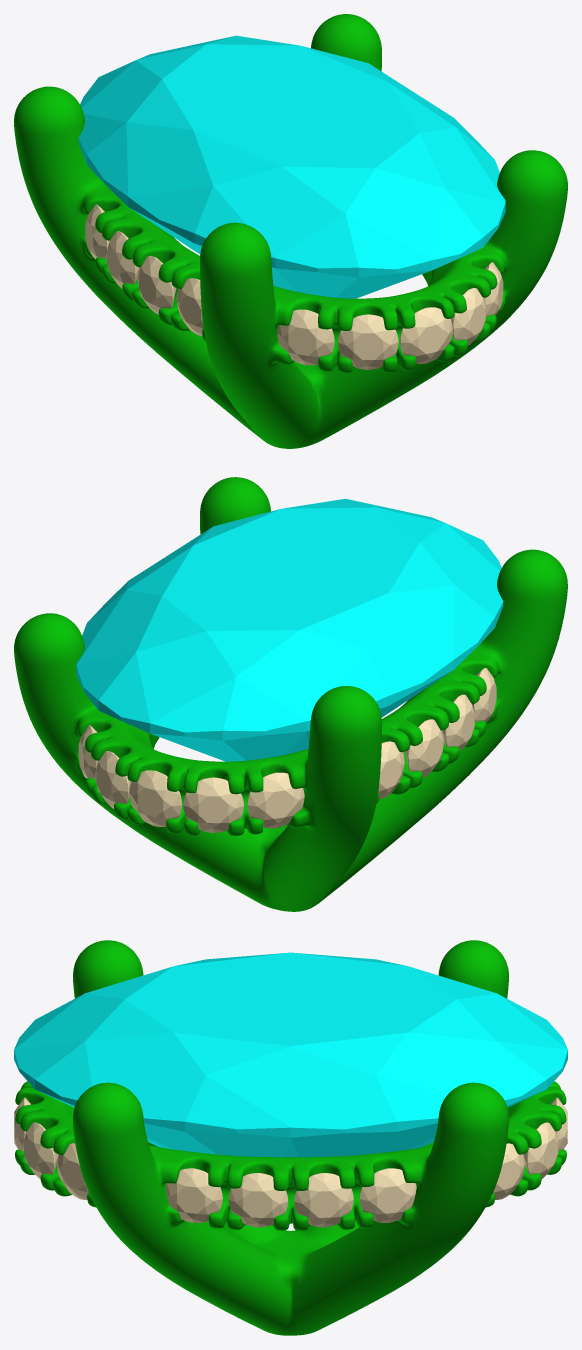
3 renders of one model, top to bottom at view 1: azimuth 30°, elevation 25°; view 2: azimuth 150°, elevation 25°; view 3: azimuth 270°, elevation 25°, orthographic.
Parts seen in each view (by area): view 1: Diamond_Oval, Metal01, Diamond_Round.006, Diamond_Round.005, Diamond_Round.007, Diamond_Round.012, Diamond_Round.008, Diamond_Round.013, Diamond_Round.011, Diamond_Round.010, Diamond_Round.009; view 2: Diamond_Oval, Metal01, Diamond_Round.003, Diamond_Round.004, Diamond_Round.002, Diamond_Round.011, Diamond_Round.001, Diamond_Round.010, Diamond_Round.012, Diamond_Round.013, Diamond_Round; view 3: Diamond_Oval, Metal01, Diamond_Round.015, Diamond_Round.016, Diamond_Round.014, Diamond_Round.017, Diamond_Round.001, Diamond_Round.008, Diamond_Round.009, Diamond_Round.
Boxes of the visible parts, box(x1,y1,x2,y2) form: Diamond_Oval: box(78, 35, 505, 298); Metal01: box(14, 14, 567, 448); Diamond_Round.006: box(338, 314, 398, 369); Diamond_Round.005: box(277, 309, 334, 365); Diamond_Round.007: box(399, 307, 452, 363); Diamond_Round.012: box(137, 256, 176, 314); Diamond_Round.008: box(450, 288, 486, 345); Diamond_Round.013: box(176, 278, 203, 335); Diamond_Round.011: box(106, 231, 139, 288); Diamond_Round.010: box(85, 204, 109, 259); Diamond_Round.009: box(484, 262, 503, 316); Diamond_Oval: box(76, 498, 503, 761); Metal01: box(14, 477, 567, 911); Diamond_Round.003: box(183, 777, 243, 832); Diamond_Round.004: box(247, 772, 304, 828); Diamond_Round.002: box(129, 770, 182, 826); Diamond_Round.011: box(405, 719, 444, 777); Diamond_Round.001: box(95, 751, 131, 808); Diamond_Round.010: box(378, 741, 404, 799); Diamond_Round.012: box(442, 694, 474, 750); Diamond_Round.013: box(472, 668, 496, 722); Diamond_Round: box(78, 725, 97, 780); Diamond_Oval: box(14, 952, 567, 1157); Metal01: box(15, 940, 566, 1335); Diamond_Round.015: box(228, 1173, 288, 1227); Diamond_Round.016: box(294, 1173, 353, 1227); Diamond_Round.014: box(165, 1168, 222, 1222); Diamond_Round.017: box(359, 1168, 416, 1222); Diamond_Round.001: box(523, 1122, 558, 1178); Diamond_Round.008: box(23, 1122, 58, 1179); Diamond_Round.009: box(57, 1143, 88, 1199); Diamond_Round: box(493, 1143, 524, 1199).
Size of the model in its own units: 7.52 by 6.63 by 10.23.
